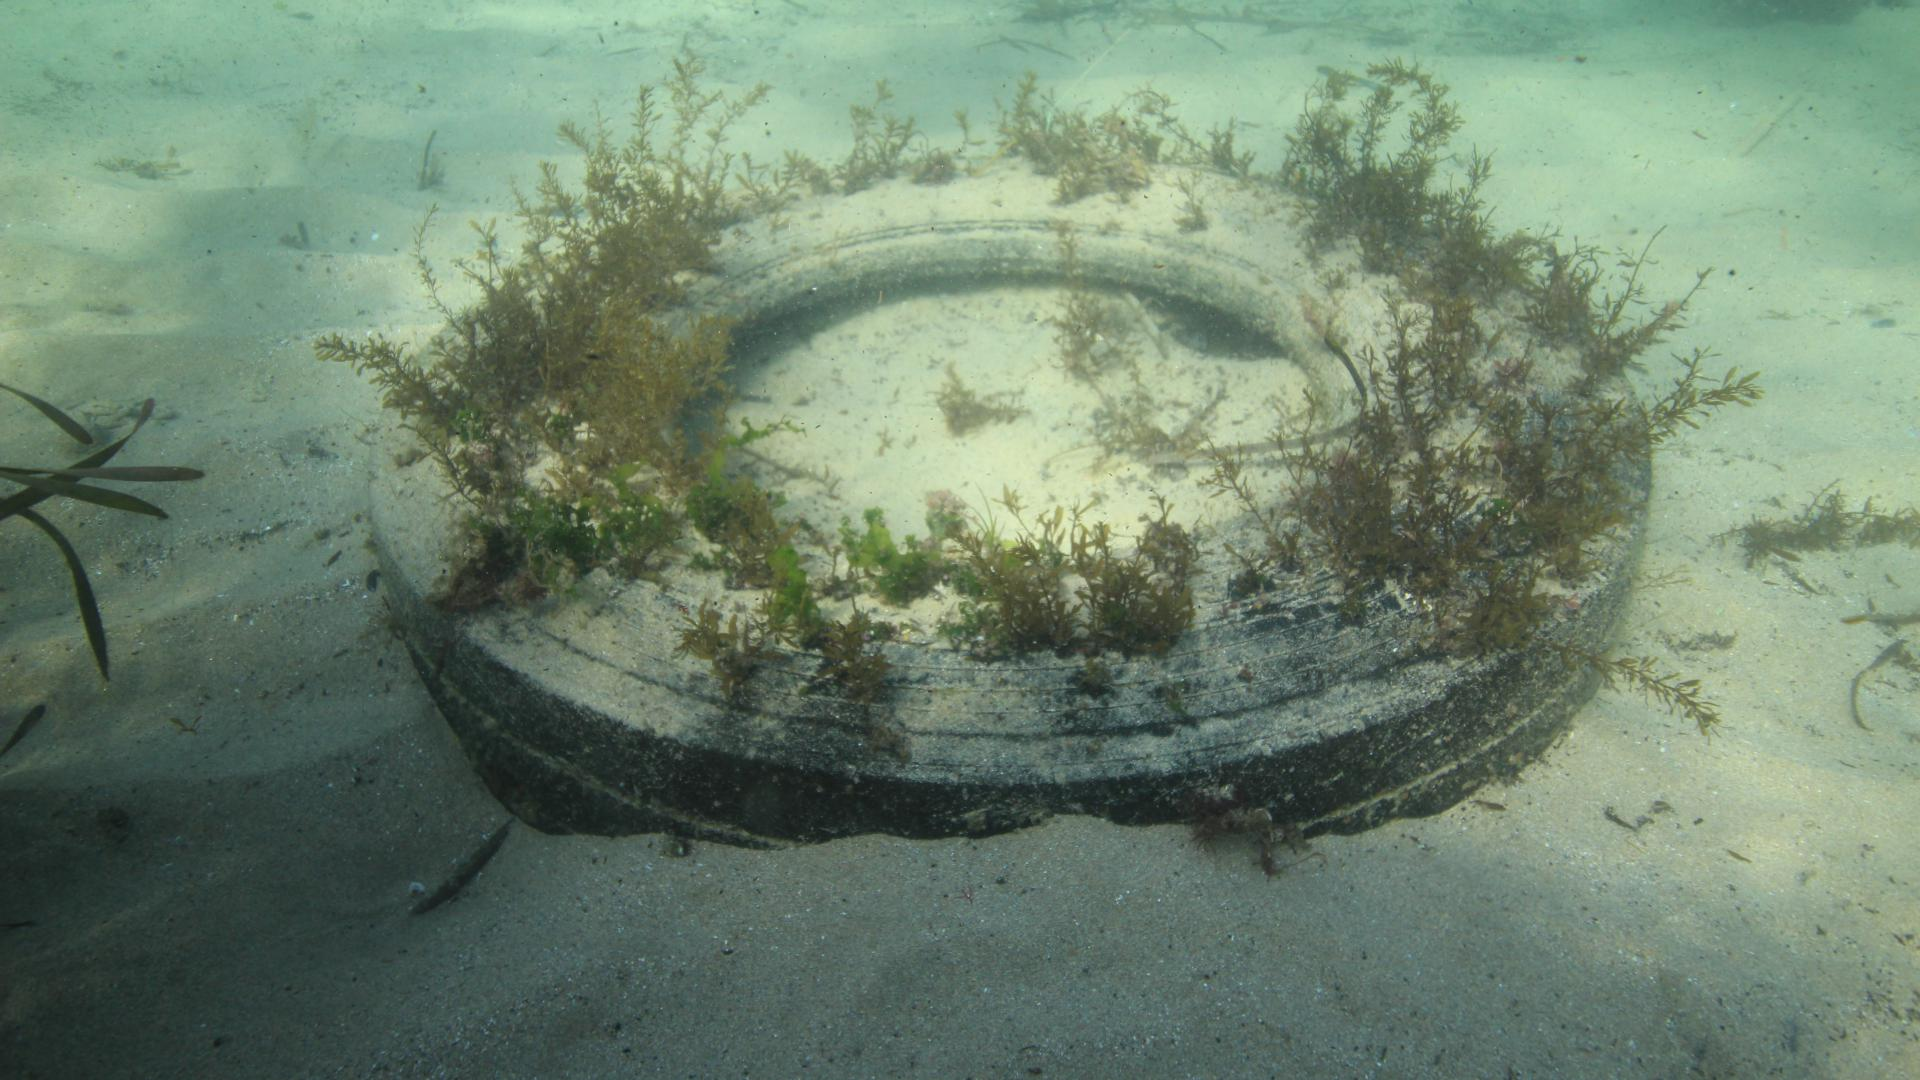tire: (368, 160, 1654, 847)
